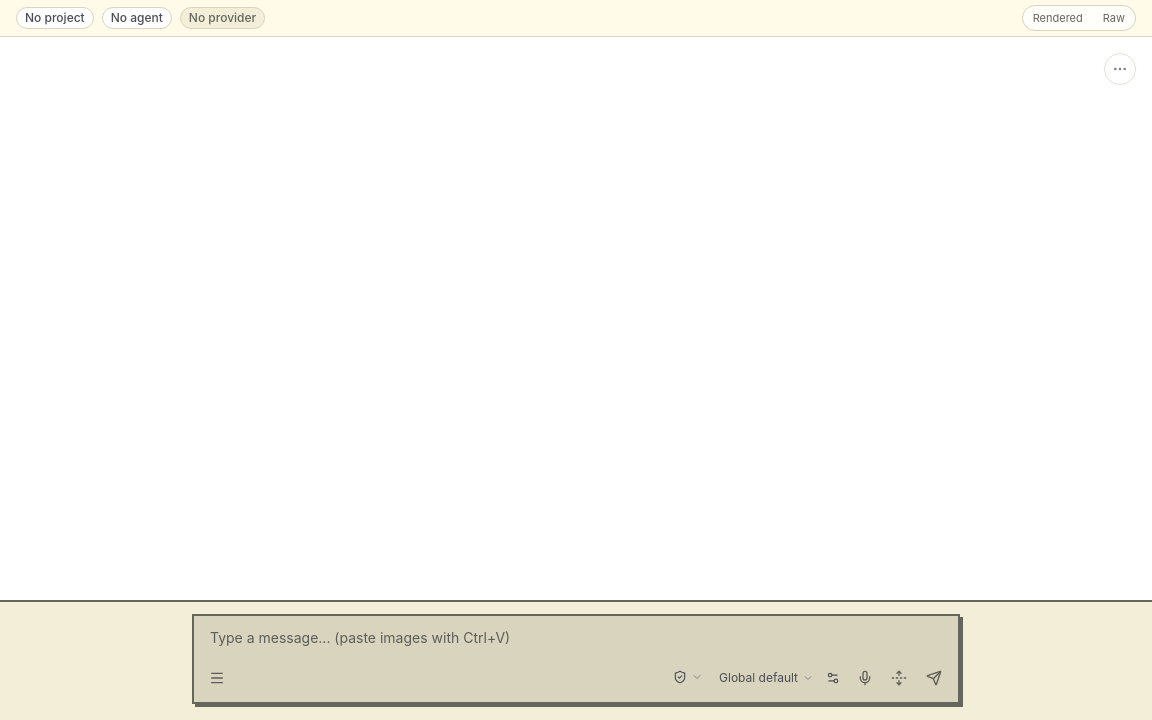
Scenario: ChatWindow — Streaming › chat-r-5: stream end appends final message and clears streaming
Type "Test" into the text box named "message input" at [576, 636], box x1=194 y1=616 x2=958 y2=656
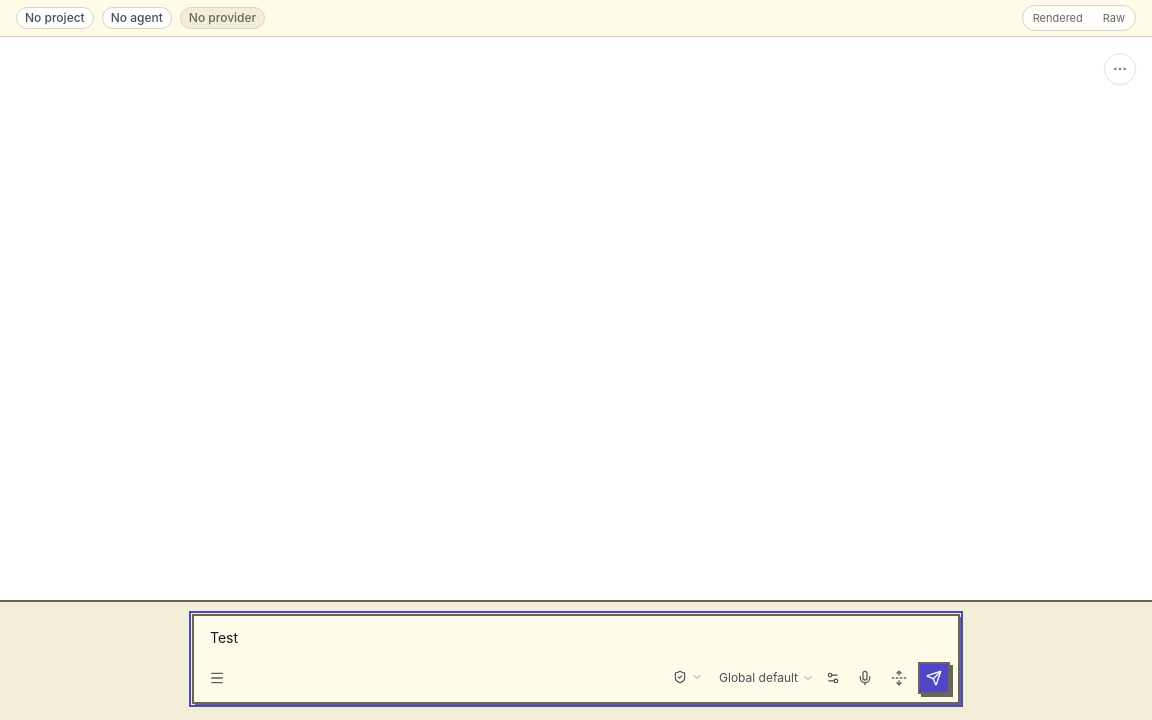
Click the button named "send" at [934, 678], box x1=918 y1=662 x2=950 y2=694
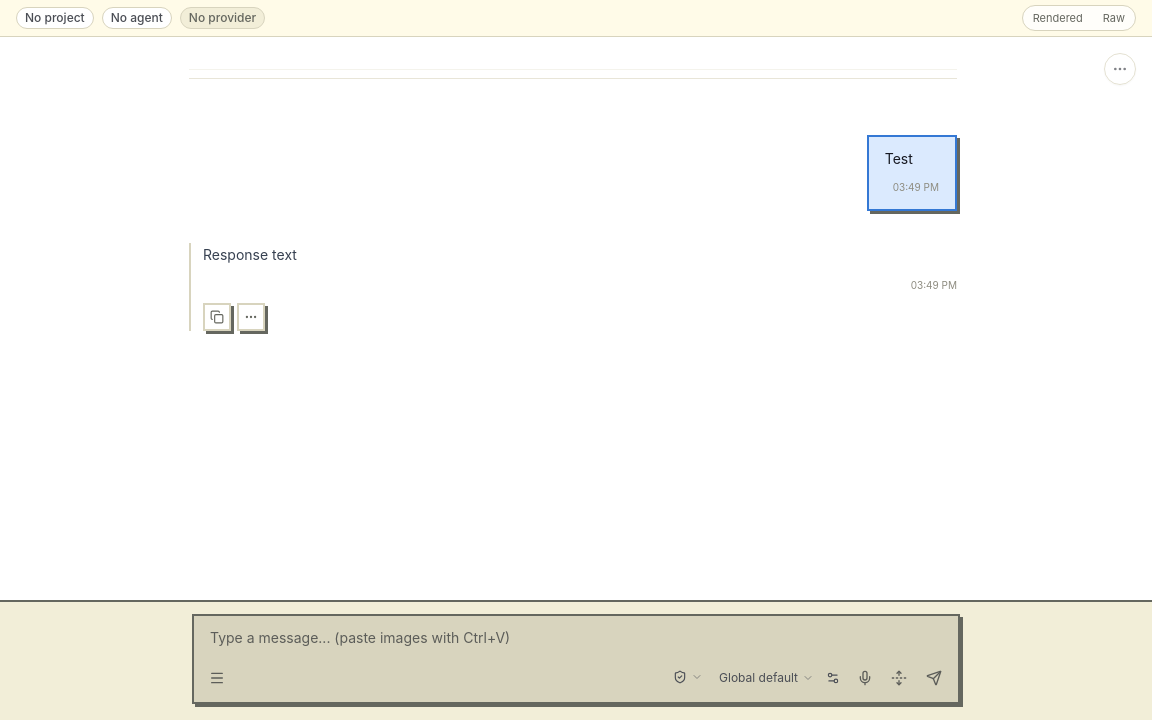
Check: the text "Response text" is shown, box x1=203 y1=246 x2=297 y2=263
